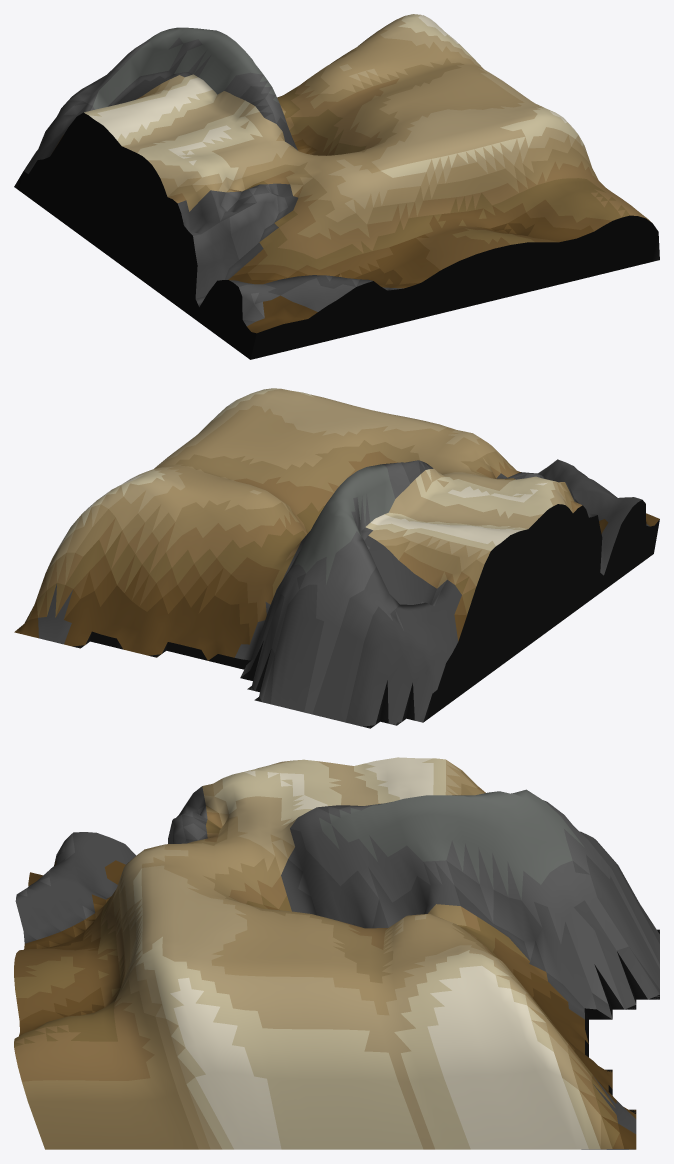
Rendered from rock_machine_tr_damaged.glb.
3 renders of one model, top to bottom at view 1: azimuth 30°, elevation 25°; view 2: azimuth 150°, elevation 25°; view 3: azimuth 270°, elevation 25°, orthographic. The views are drawn at different scales.
Parts seen in each view (by area): view 1: rock_machine_tr_damaged; view 2: rock_machine_tr_damaged; view 3: rock_machine_tr_damaged.
Part boxes in pixels (left/top/right/bottom): rock_machine_tr_damaged: left=14, top=14, right=659, bottom=359; rock_machine_tr_damaged: left=14, top=388, right=659, bottom=728; rock_machine_tr_damaged: left=14, top=757, right=659, bottom=1149.
Bounding box in the file's own units: 24 × 9.3 × 27.31.
